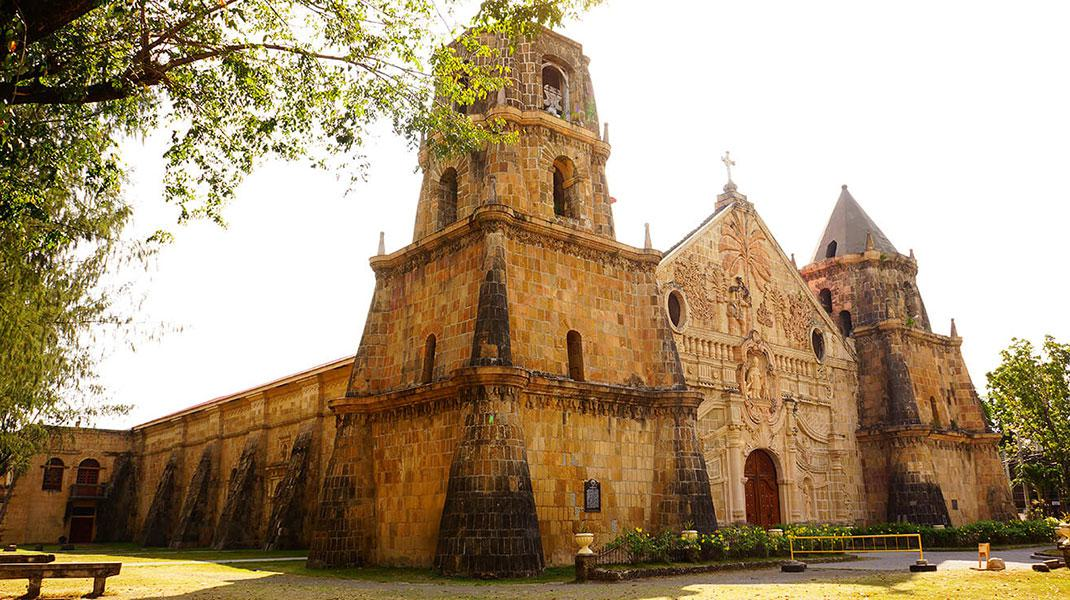Environmental Damage: (566, 89, 600, 129), (898, 312, 921, 337)
Miagao Church: (347, 11, 1019, 539)
